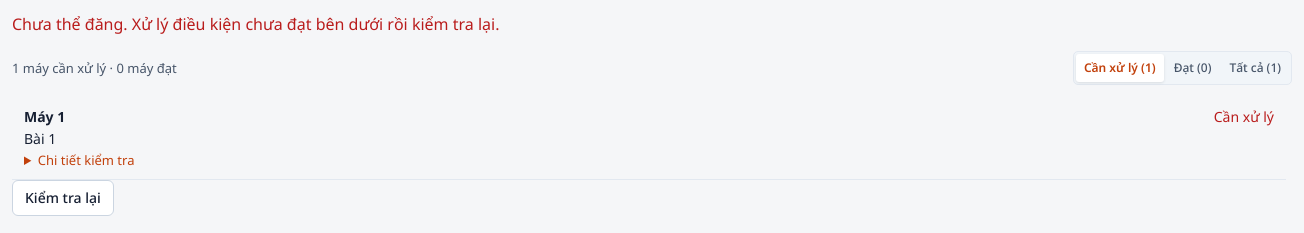
publish preflight result › explains an empty passed-machine filter instead of leaving a blank list
The width and height of the screenshot is (1304, 233).
What coordinates should you click on to do the following:
click the button "Đạt (0)"
I would click on:
 (1193, 68)
Its box is [1166,54,1219,82].
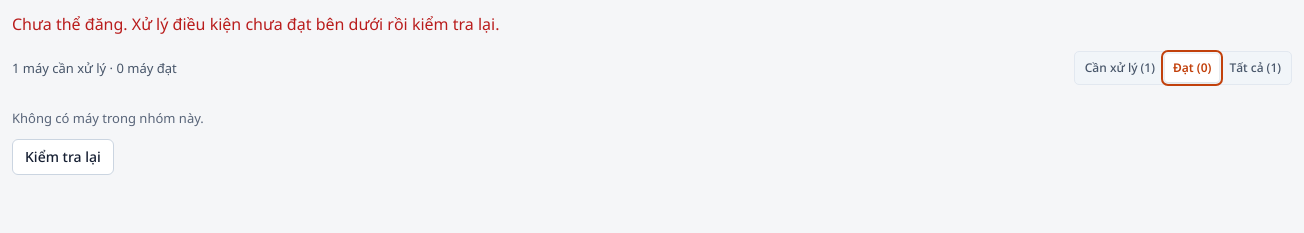
Check: the text "Không có máy trong nhóm này." is shown, box [12,109,204,127]
